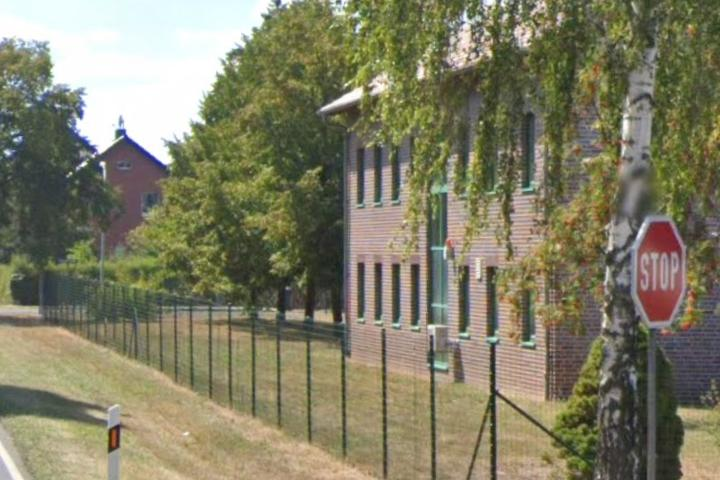traffic_sign: (632, 215, 685, 326)
